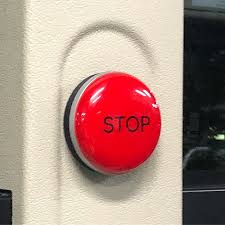bell: (60, 67, 170, 185)
